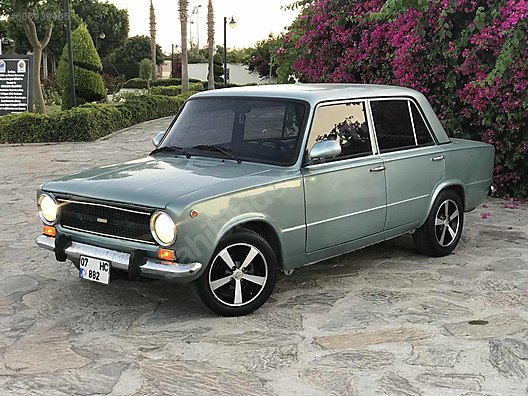murat: (30, 74, 499, 318)
